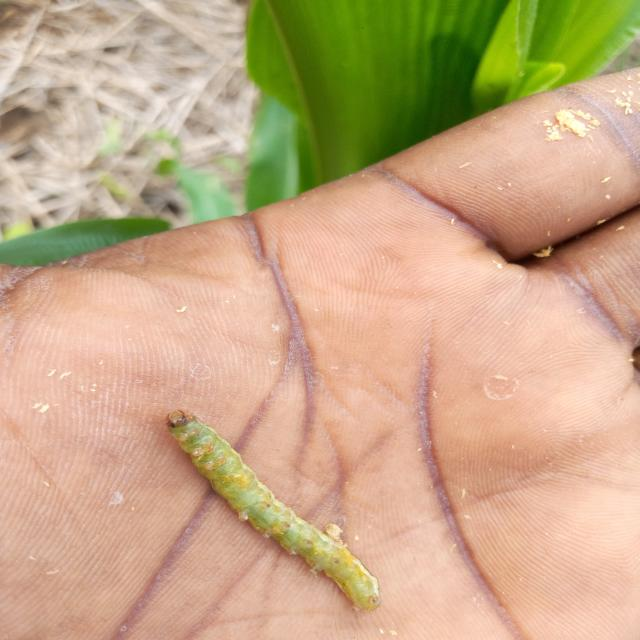yellow-stem-borer-larva: (153, 386, 403, 621)
